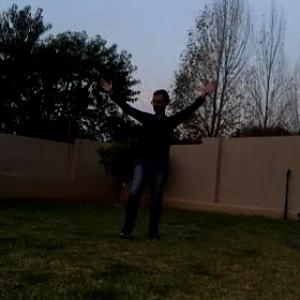takeoff: (98, 81, 215, 237)
